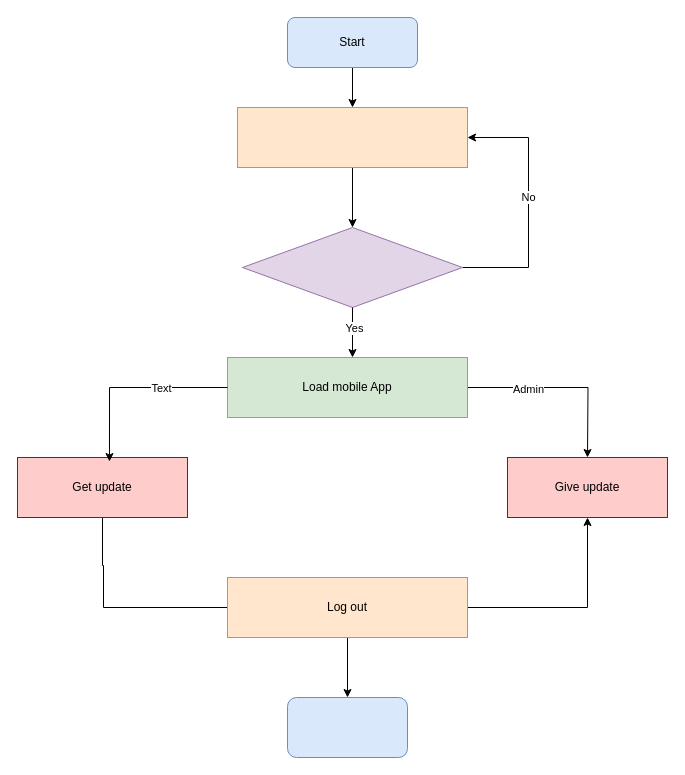
The diagram is 685 pixels wide and 775 high, and some of its shapes have lost their labels. The shapes that lost their labels are listed below. From the top down, each one's centre as x and y in pixels, then its label:
point 352,137: Login
point 352,267: Password Ok?
point 347,727: Stop
